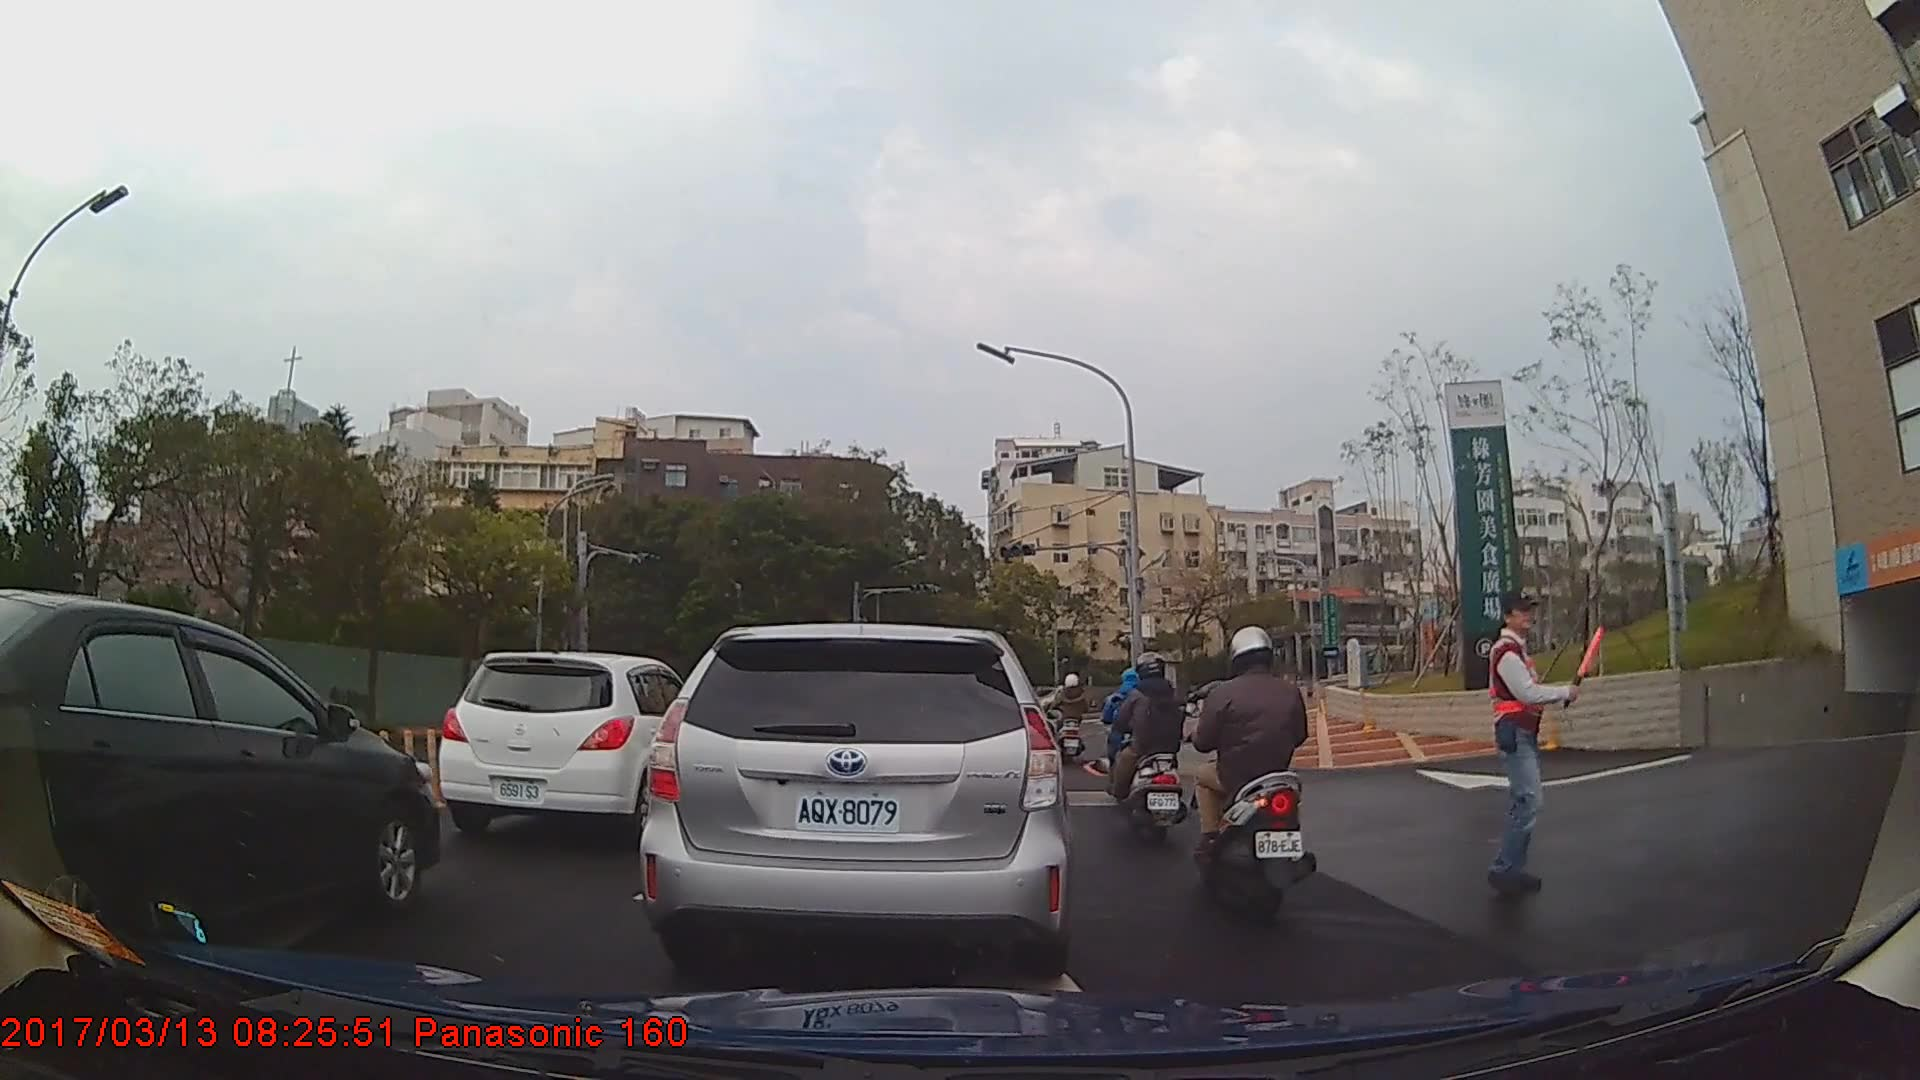pedestrian: (1479, 592, 1615, 897)
rider: (1191, 623, 1322, 924), (1111, 651, 1193, 841), (1055, 671, 1093, 767)
vehicle: (0, 587, 441, 963), (637, 620, 1074, 970), (438, 651, 717, 843), (1183, 677, 1249, 710)
